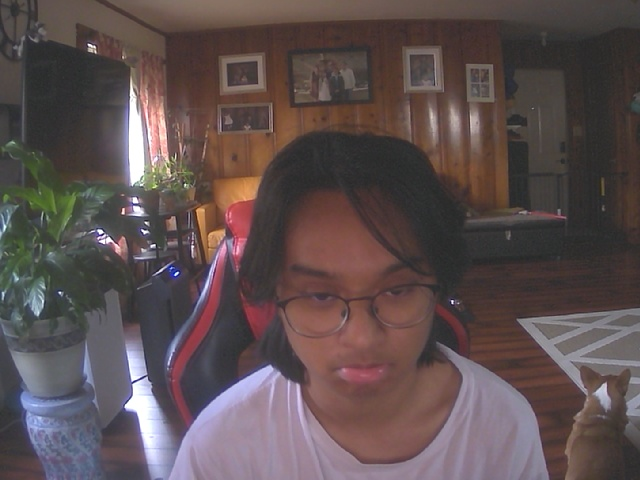sad: (269, 147, 450, 402)
